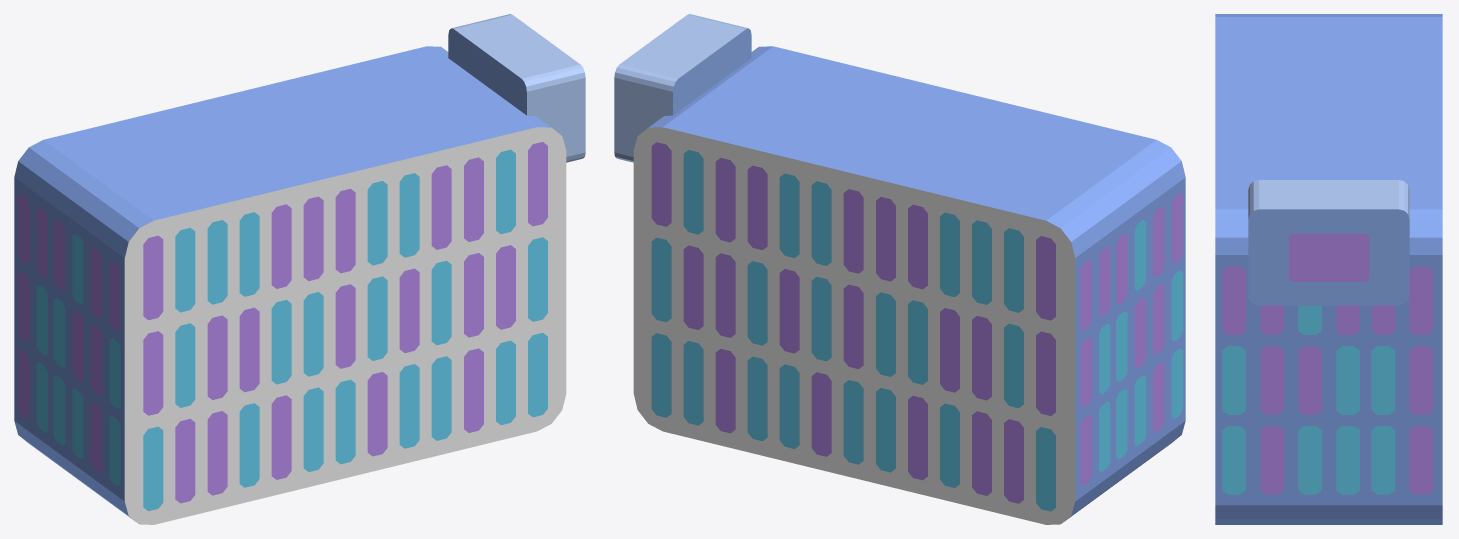
File: Building_044.fbx
3 views of the same model, side by side, from view 1: azimuth 30°, elevation 25°; view 2: azimuth 150°, elevation 25°; view 3: azimuth 270°, elevation 25° (orthographic). The views are drawn at different scales.
Parts seen in each view (by area): view 1: Building_044; view 2: Building_044; view 3: Building_044.
Part boxes in pixels (<box>): Building_044: <box>14,14,585,524</box>; Building_044: <box>614,14,1185,524</box>; Building_044: <box>1215,14,1442,524</box>.
Size of the model in its own units: 55.45 by 37.17 by 22.48.
